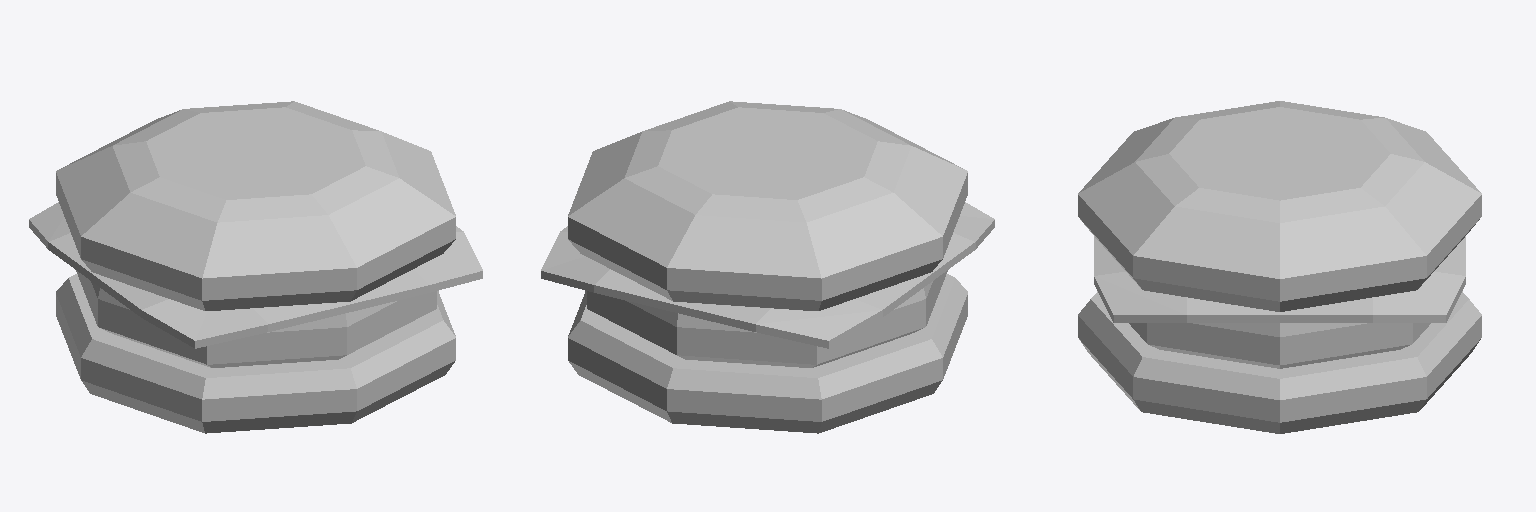
The model's file is ageless-nutrition.obj.
The picture shows the model from 3 angles: view 1: azimuth 30°, elevation 25°; view 2: azimuth 150°, elevation 25°; view 3: azimuth 270°, elevation 25°; orthographic projection.
Parts seen in each view (by area): view 1: TopBun, BottomBun_Cube.004, CheeseSlice_Cube.003, Patty_Cube.002; view 2: TopBun, BottomBun_Cube.004, CheeseSlice_Cube.003, Patty_Cube.002; view 3: TopBun, BottomBun_Cube.004, CheeseSlice_Cube.003, Patty_Cube.002.
Boxes of the visible parts, x1,y1,x2,y2 form: TopBun: [56, 101, 455, 310]; BottomBun_Cube.004: [56, 274, 455, 433]; CheeseSlice_Cube.003: [29, 202, 482, 348]; Patty_Cube.002: [76, 270, 436, 367]; TopBun: [568, 101, 967, 310]; BottomBun_Cube.004: [568, 274, 967, 433]; CheeseSlice_Cube.003: [541, 202, 994, 348]; Patty_Cube.002: [587, 270, 947, 367]; TopBun: [1078, 101, 1481, 311]; BottomBun_Cube.004: [1078, 291, 1481, 433]; CheeseSlice_Cube.003: [1094, 236, 1465, 322]; Patty_Cube.002: [1129, 323, 1430, 368].
Bounding box in the file's own units: 2 × 1.12 × 2.